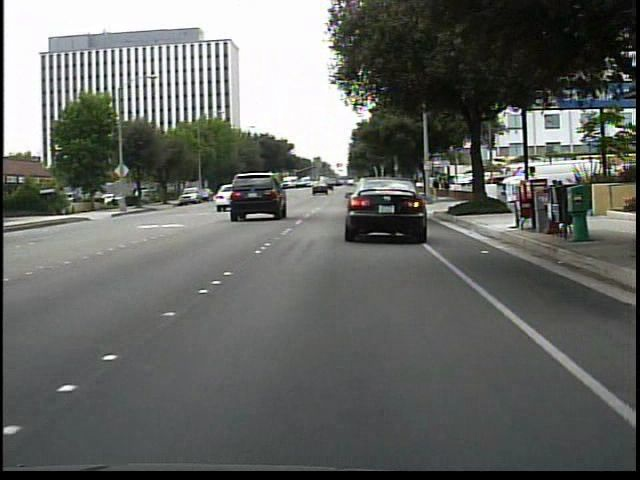person: (430, 177, 442, 201), (442, 177, 452, 202)
